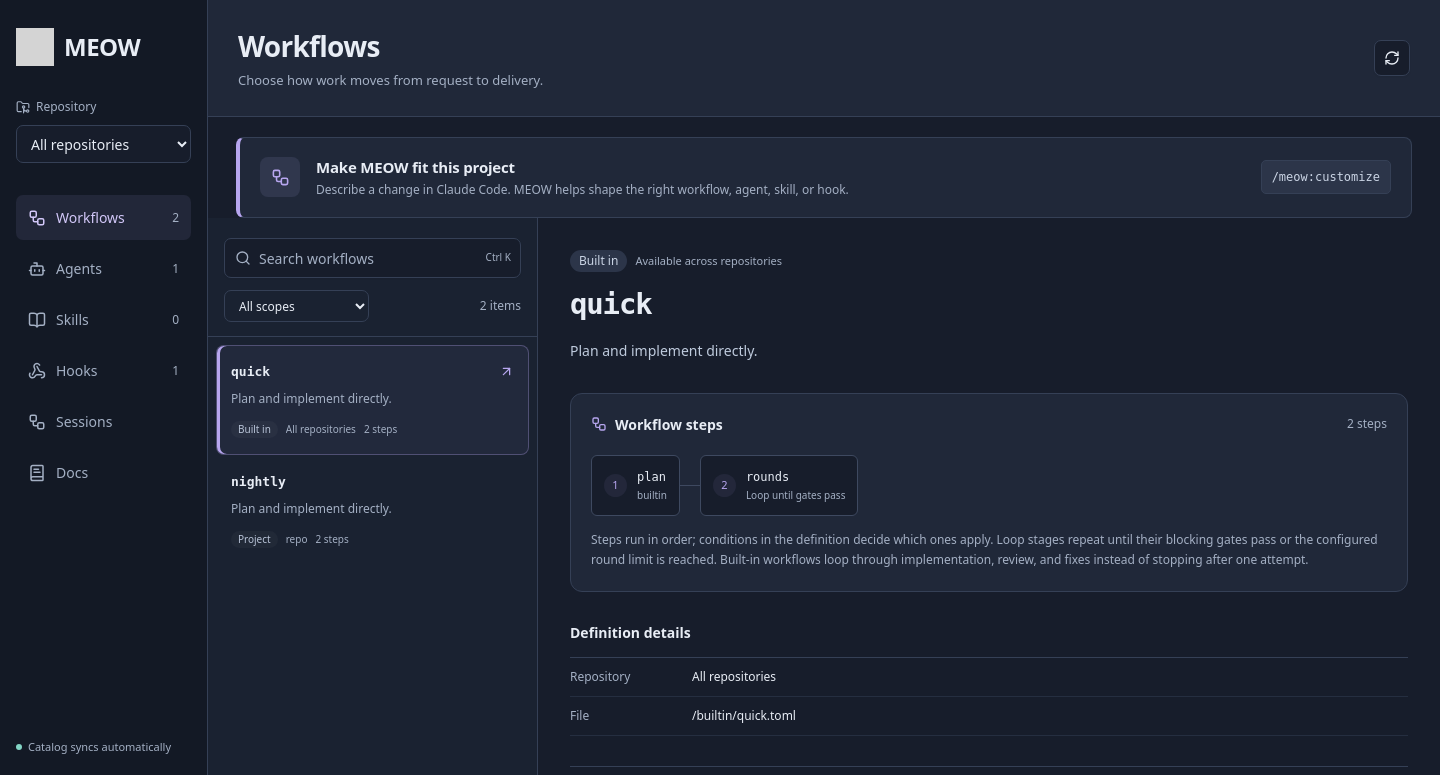
Test: a stale refresh cannot replace the newly selected repository
Expected: the heading "quick" is shown, [570,287,652,321]
Click the button named "Refresh catalog" at (1392, 58), box [1374,40,1410,76]
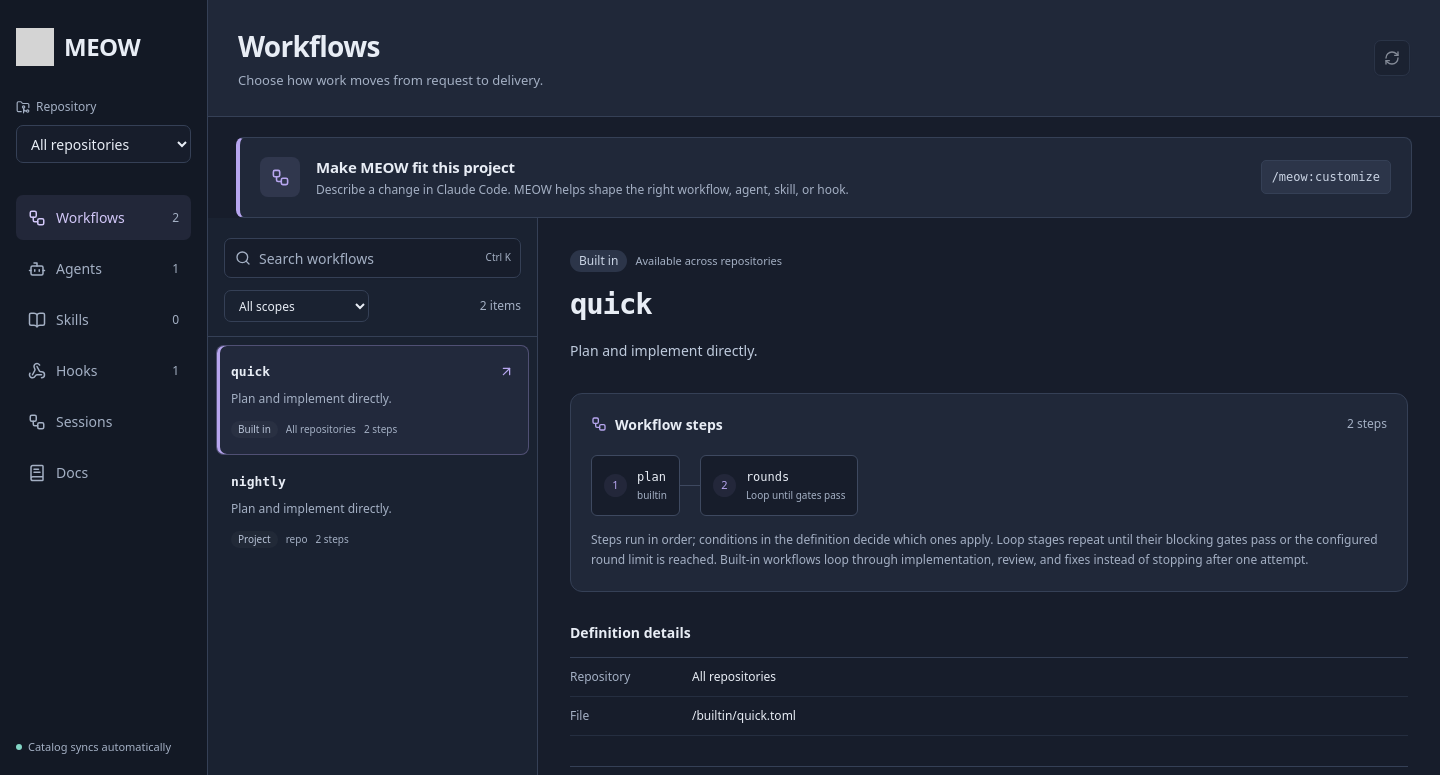
Select "other" in the dropdown labelled "Repository" at (104, 144), box [16,125,191,163]
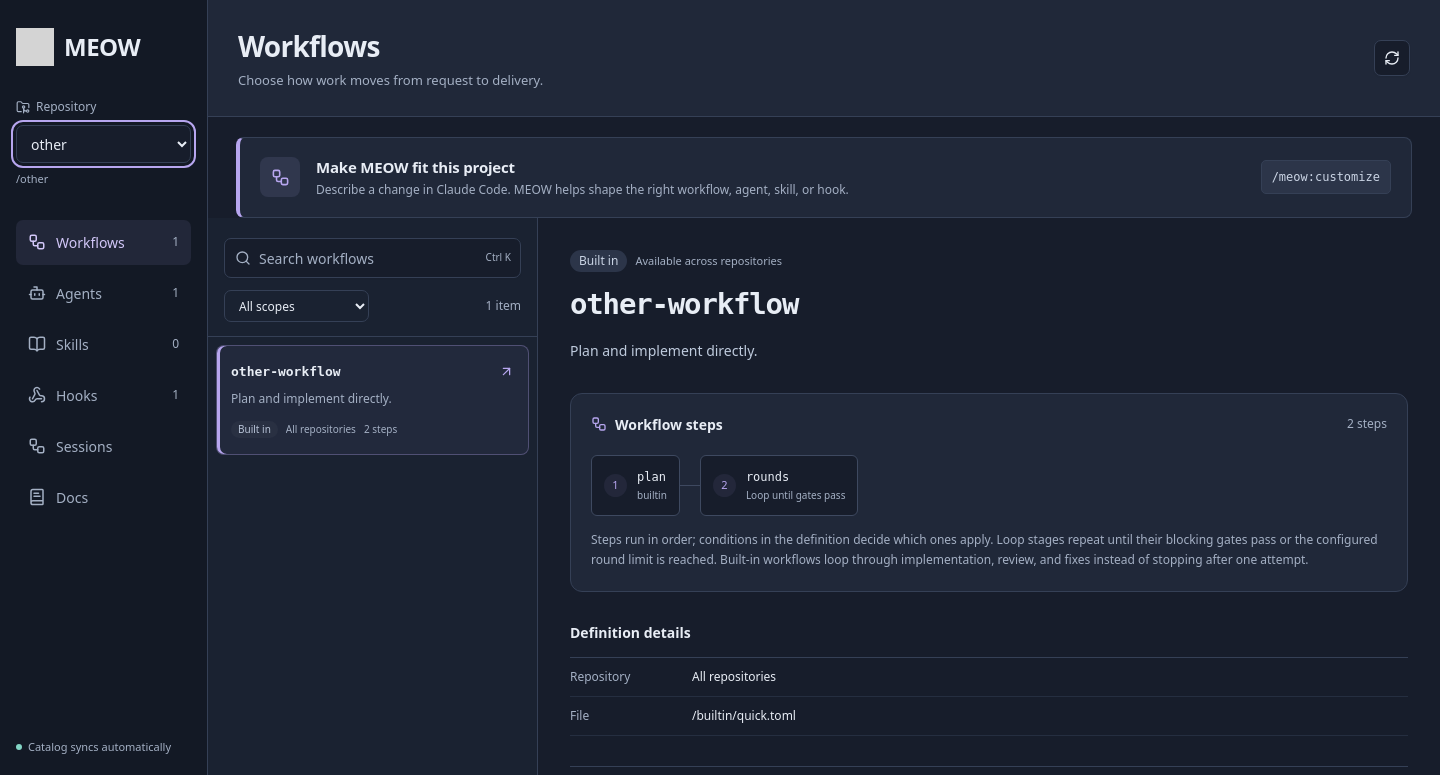
Now the heading "other-workflow" is shown, box [570,286,798,324]
